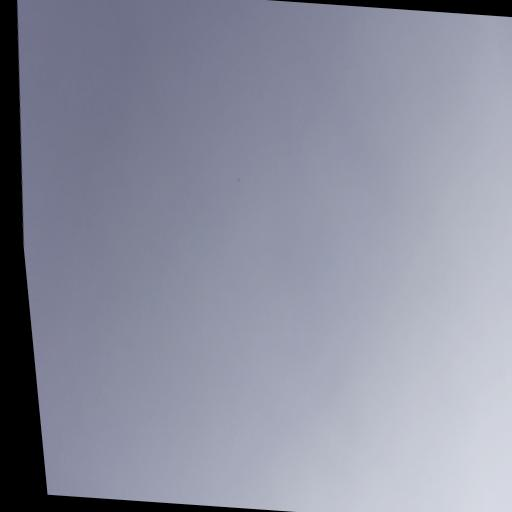drones: (235, 177, 241, 183)
